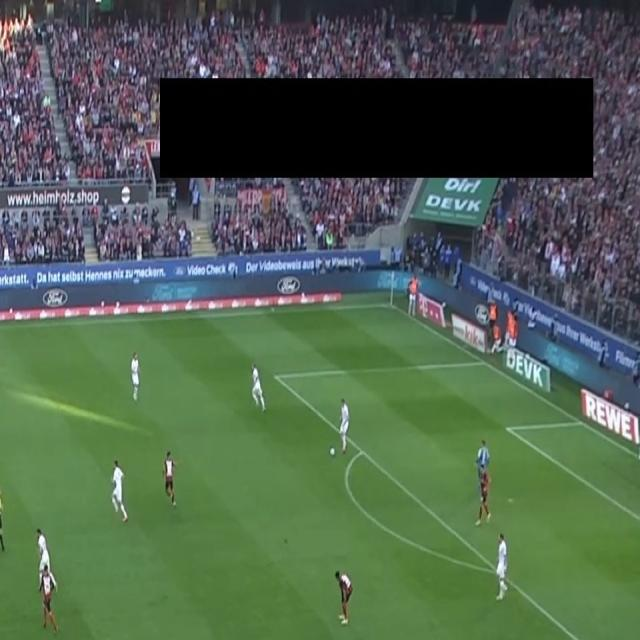ball: (330, 446, 336, 457)
